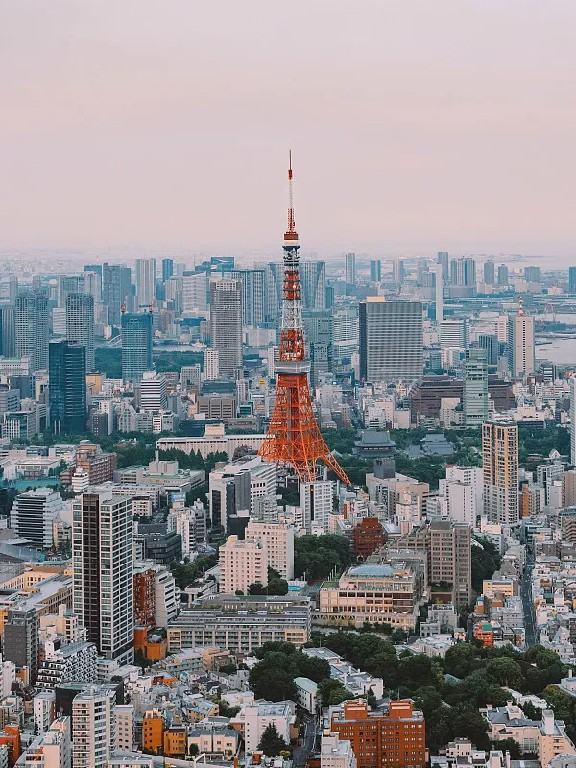Tokyo: (258, 142, 355, 486)
